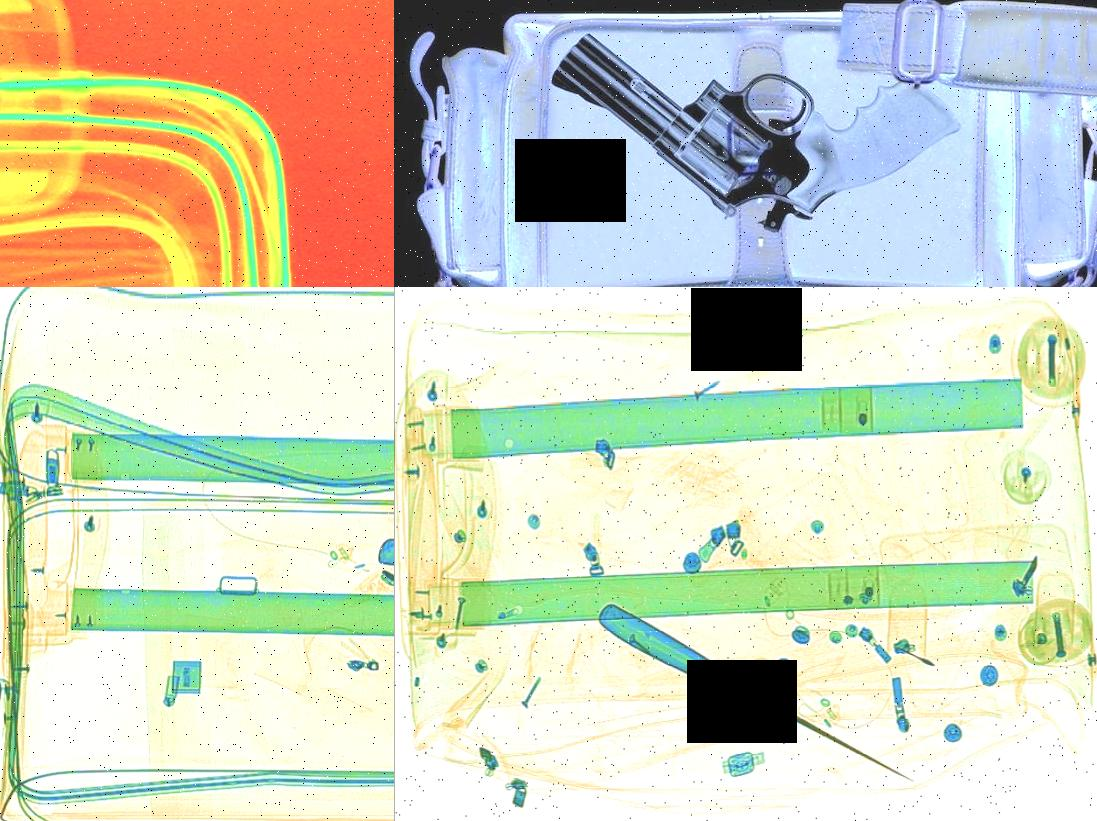Gun: (543, 32, 970, 232)
Knife: (588, 600, 927, 790)
